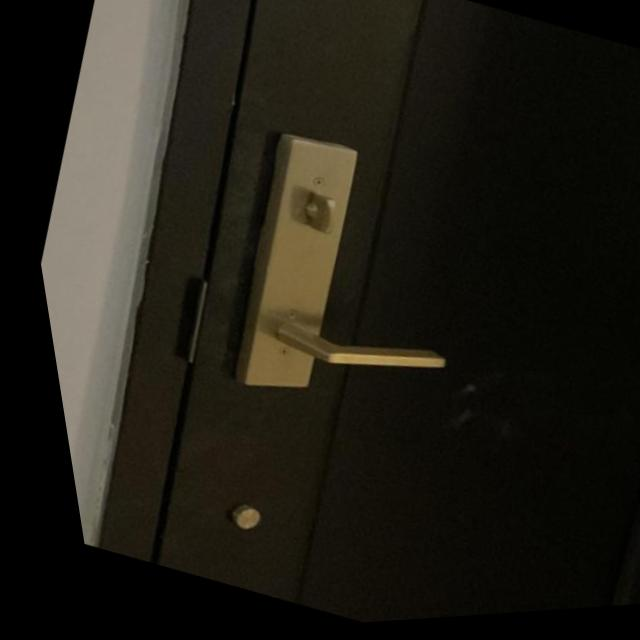door_handle: (234, 281, 465, 428)
